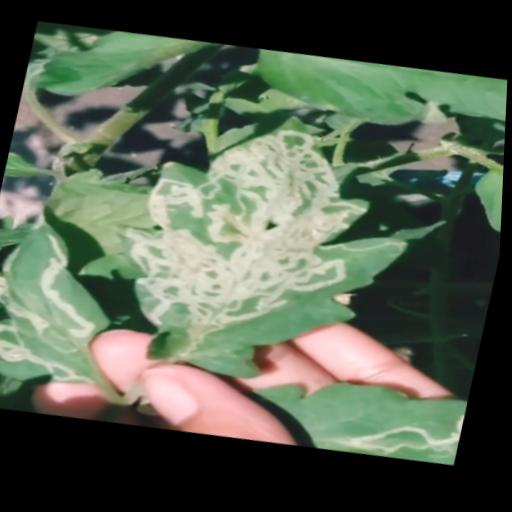Leaf_Miner: (88, 87, 434, 411), (239, 363, 474, 480), (0, 209, 132, 396)
